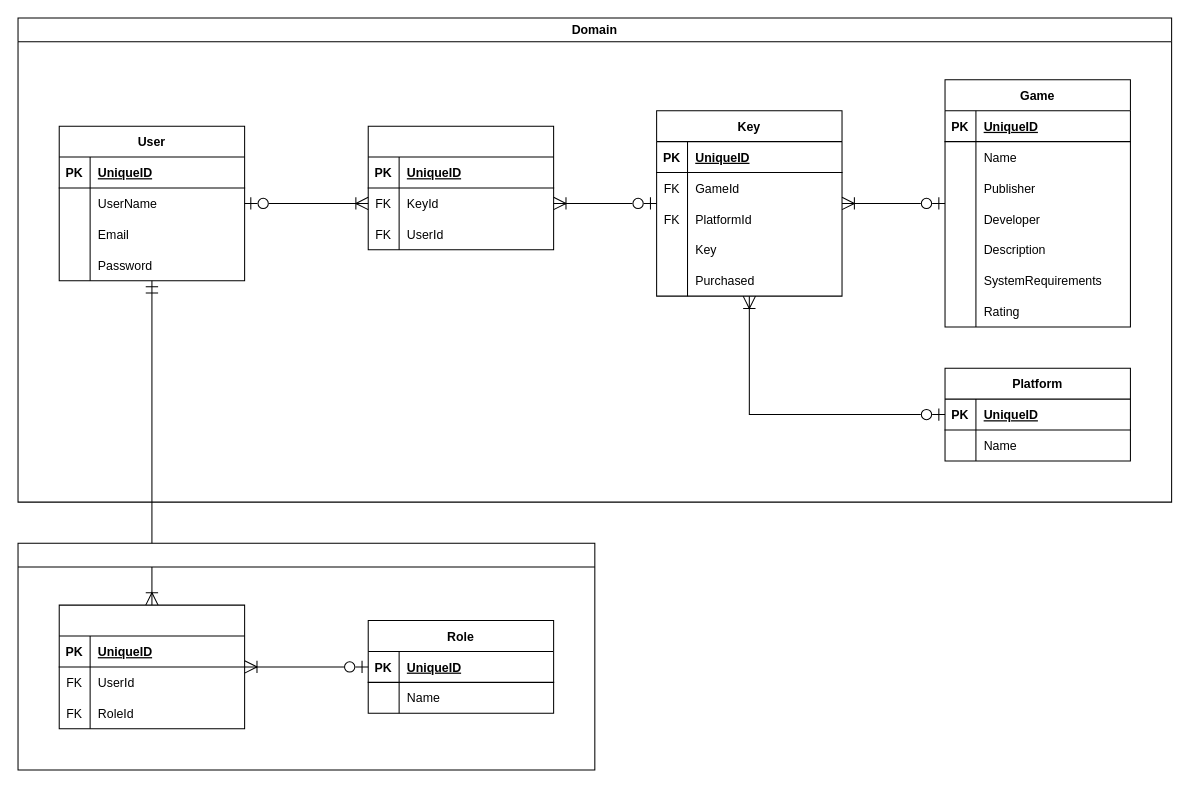
This 1190x788 diagram has some shape labels left out. The shapes that lost their labels are listed below. From the top down, each one's box as (x1, y1, x2, y2) in pixels, then its label:
(367, 125, 554, 250): PurchasedKey
(58, 604, 245, 729): UserRole
(17, 542, 595, 770): Security
